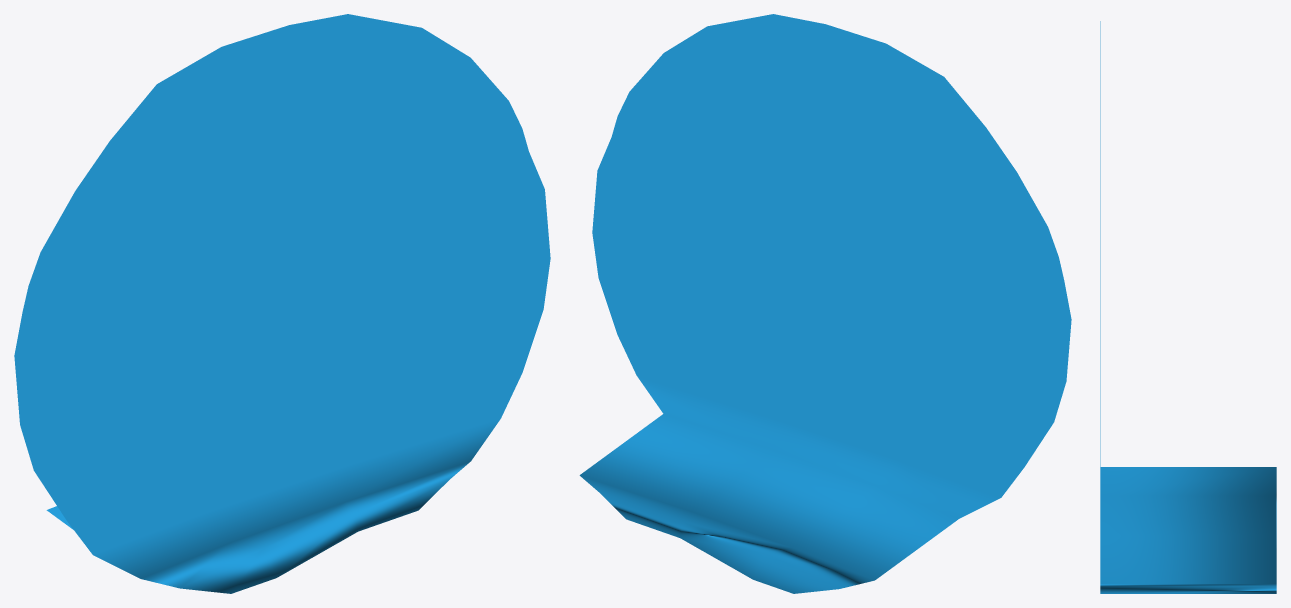
The model's file is sphere_shapekey.fbx.
The picture shows the model from 3 angles, left to right: view 1: azimuth 30°, elevation 25°; view 2: azimuth 150°, elevation 25°; view 3: azimuth 270°, elevation 25°; orthographic projection. The views are drawn at different scales.
Parts seen in each view (by area): view 1: sphere.001; view 2: sphere.001; view 3: sphere.001.
Part boxes in pixels (box(x1,y1,x2,y2)): sphere.001: box(14, 14, 550, 593); sphere.001: box(579, 14, 1071, 593); sphere.001: box(1100, 21, 1276, 593).
Size of the model in its own units: 78.15 by 77.23 by 23.73.
